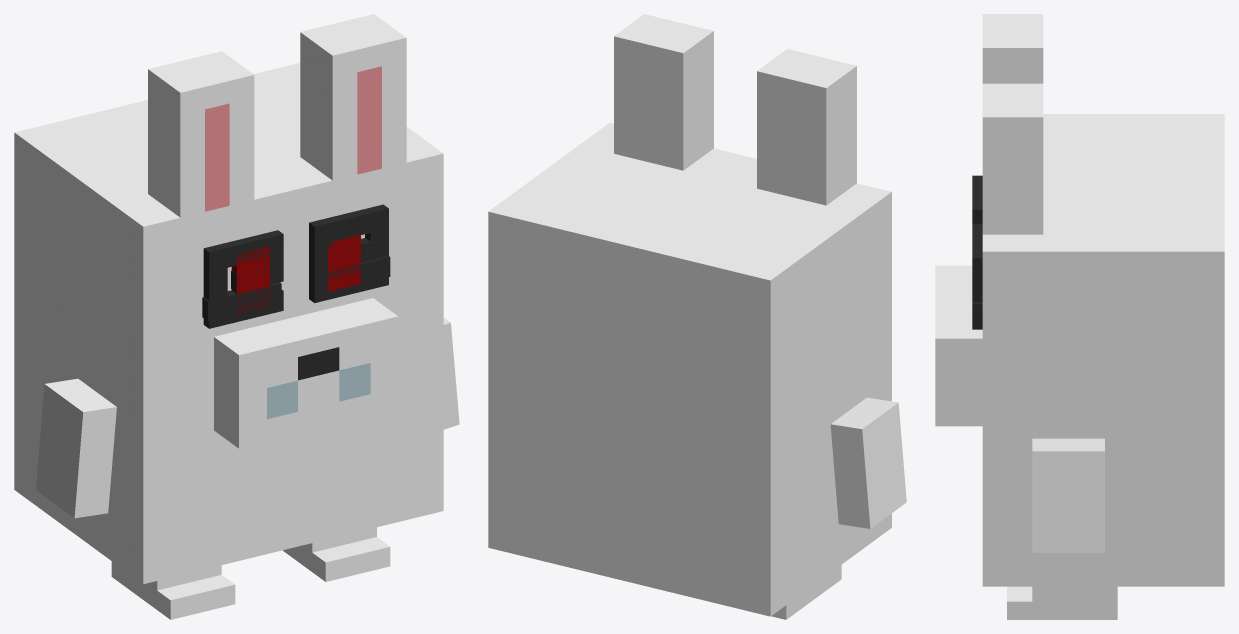
3 views of the same model, side by side, from view 1: azimuth 30°, elevation 25°; view 2: azimuth 150°, elevation 25°; view 3: azimuth 270°, elevation 25° (orthographic). The views are drawn at different scales.
Parts seen in each view (by area): view 1: Ch_25, Ch_25_Ear, Ch_25_Hand_L, Ch_25_Eye_03_R, Ch_25_Eye_03_L, Ch_25_Leg_L, Ch_25_Leg_R, Ch_25_Hand_R; view 2: Ch_25, Ch_25_Ear, Ch_25_Hand_L, Ch_25_Leg_L; view 3: Ch_25, Ch_25_Ear, Ch_25_Hand_R, Ch_25_Leg_R, Ch_25_Eye_03_R, Ch_25_Eye_03_L.
Boxes of the visible parts, box(x1,y1,x2,y2) form: Ch_25: box(14, 63, 443, 584); Ch_25_Ear: box(148, 14, 406, 217); Ch_25_Hand_L: box(36, 378, 116, 518); Ch_25_Eye_03_R: box(309, 204, 388, 302); Ch_25_Eye_03_L: box(203, 230, 283, 328); Ch_25_Leg_L: box(111, 561, 235, 619); Ch_25_Leg_R: box(283, 527, 390, 581); Ch_25_Hand_R: box(443, 317, 459, 429); Ch_25: box(488, 123, 891, 616); Ch_25_Ear: box(614, 14, 856, 205); Ch_25_Hand_L: box(830, 397, 906, 528); Ch_25_Leg_L: box(771, 565, 841, 619); Ch_25: box(935, 114, 1224, 586); Ch_25_Ear: box(982, 14, 1043, 234); Ch_25_Hand_R: box(1032, 438, 1104, 552); Ch_25_Leg_R: box(1007, 586, 1117, 619); Ch_25_Eye_03_R: box(972, 224, 982, 329); Ch_25_Eye_03_L: box(972, 175, 982, 223).
Bounding box in the file's own units: 8.64 × 11.53 × 5.99.
